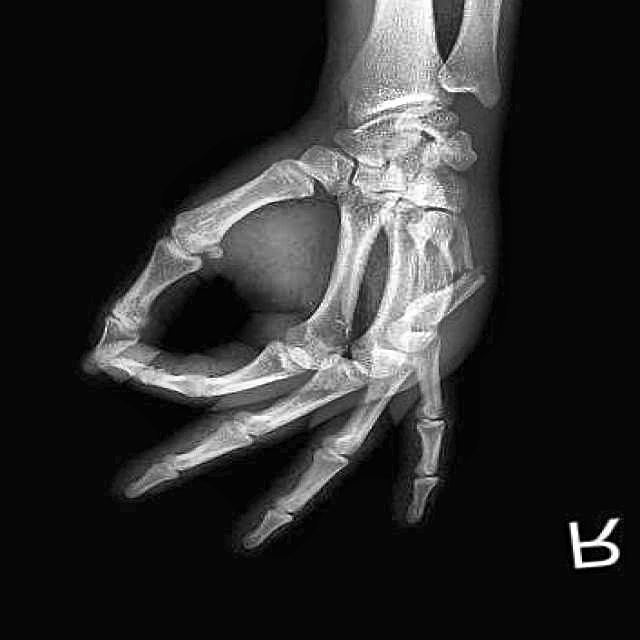Oblique: (399, 227, 493, 321)
